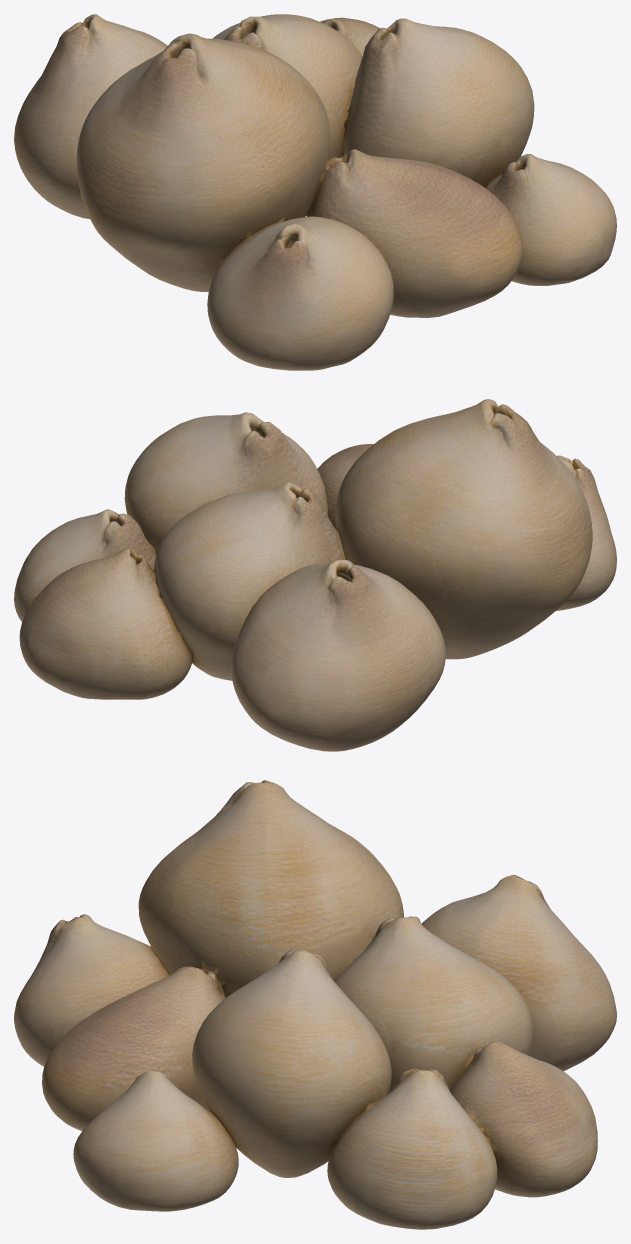
Rendered from brachiopod-cluster.raw.glb.
3 renders of one model, top to bottom at view 1: azimuth 30°, elevation 25°; view 2: azimuth 150°, elevation 25°; view 3: azimuth 270°, elevation 25°, orthographic. The views are drawn at different scales.
Parts seen in each view (by area): view 1: tripo_node_e253afcc-b3ef-49e2-84a1-b52fa63cb12b; view 2: tripo_node_e253afcc-b3ef-49e2-84a1-b52fa63cb12b; view 3: tripo_node_e253afcc-b3ef-49e2-84a1-b52fa63cb12b.
Boxes of the visible parts, left/top/right/bottom form: tripo_node_e253afcc-b3ef-49e2-84a1-b52fa63cb12b: left=14, top=14, right=616, bottom=370; tripo_node_e253afcc-b3ef-49e2-84a1-b52fa63cb12b: left=14, top=399, right=616, bottom=751; tripo_node_e253afcc-b3ef-49e2-84a1-b52fa63cb12b: left=14, top=780, right=616, bottom=1229.
Bounding box in the file's own units: 0.9583 × 0.4763 × 1.
1 material, 1 textured.
